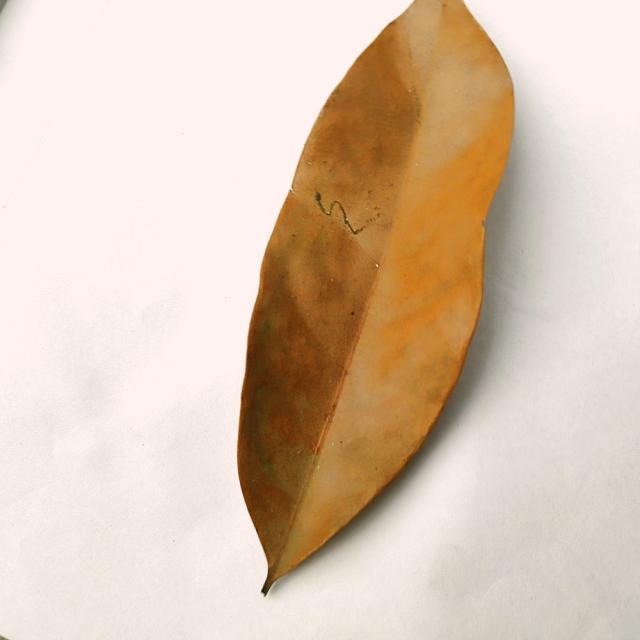Dry_Leaf-Lychee: (236, 0, 516, 596)
